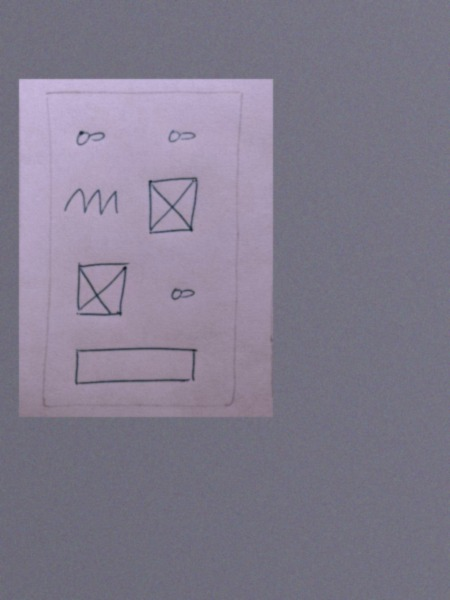image: (69, 254, 139, 322), (141, 173, 204, 239)
switch: (160, 281, 203, 311), (69, 123, 109, 155), (162, 121, 200, 151)
text: (61, 184, 119, 219)
text_input: (65, 342, 204, 392)
